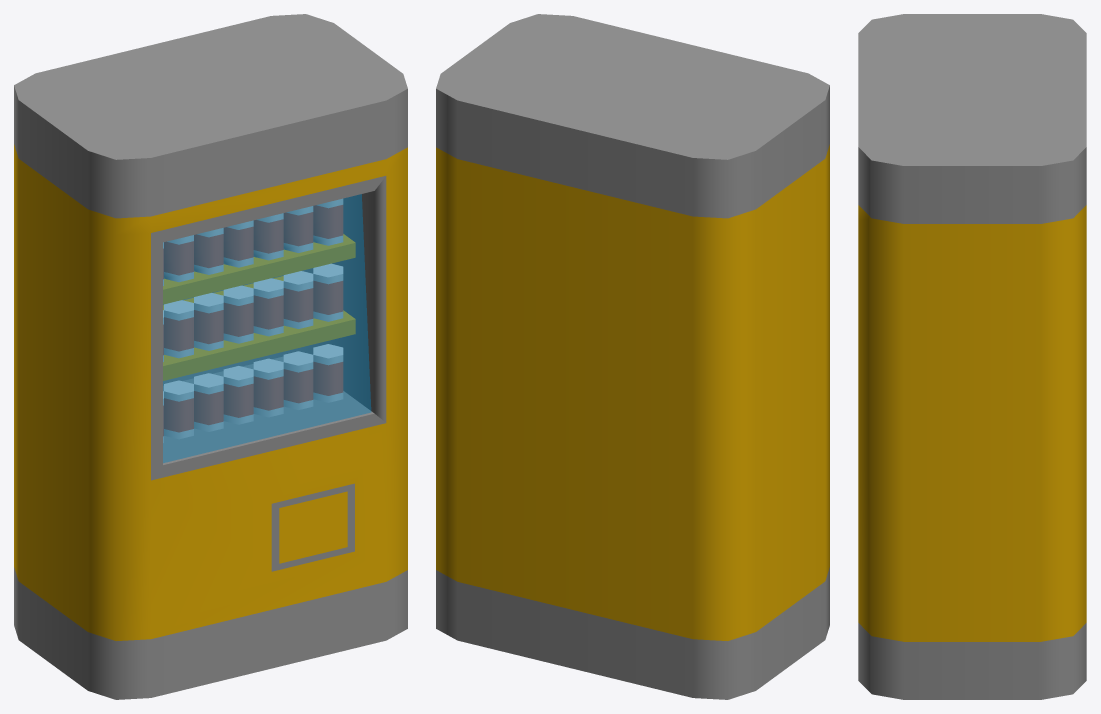
File: waterMachine.fbx
3 renders of one model, left to right at view 1: azimuth 30°, elevation 25°; view 2: azimuth 150°, elevation 25°; view 3: azimuth 270°, elevation 25°, orthographic.
Visible parts, largest first — view 1: waterMachine; view 2: waterMachine; view 3: waterMachine.
Boxes of the visible parts, x1=… form: waterMachine: x1=14, y1=14, x2=407, y2=699; waterMachine: x1=436, y1=14, x2=829, y2=699; waterMachine: x1=858, y1=14, x2=1086, y2=699.
Bounding box in the file's own units: 141 × 231 × 89.73.
